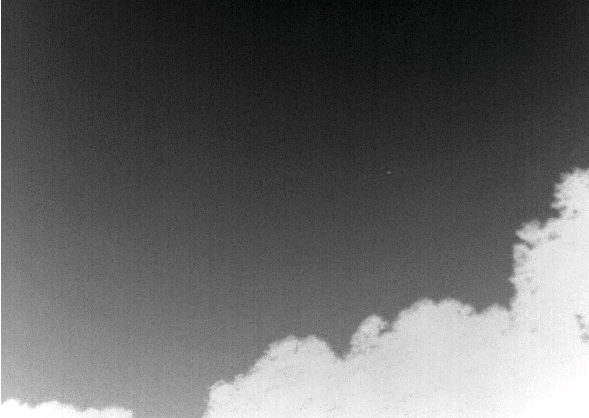dim target: (385, 169, 392, 175)
